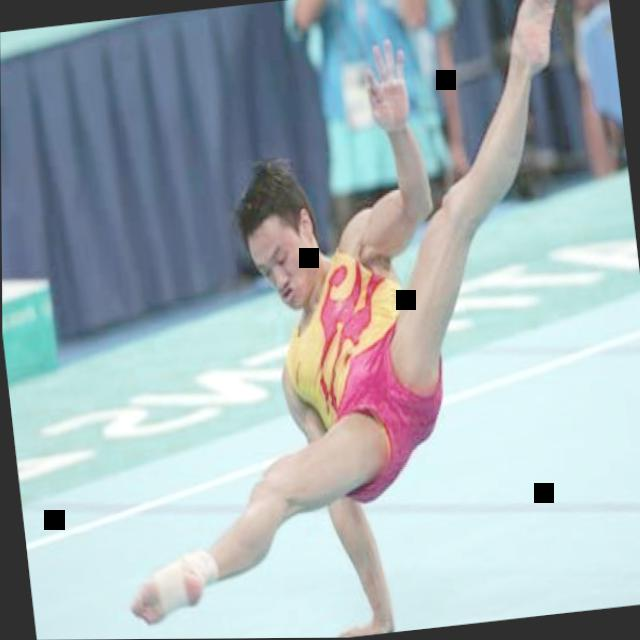Fall-Detected: (42, 0, 640, 640)
